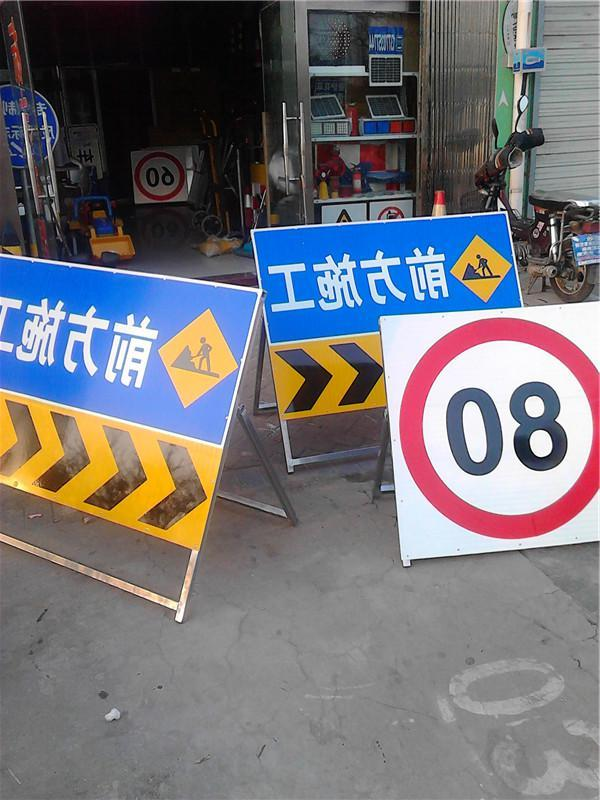sign: (257, 212, 600, 564), (1, 267, 257, 588)
